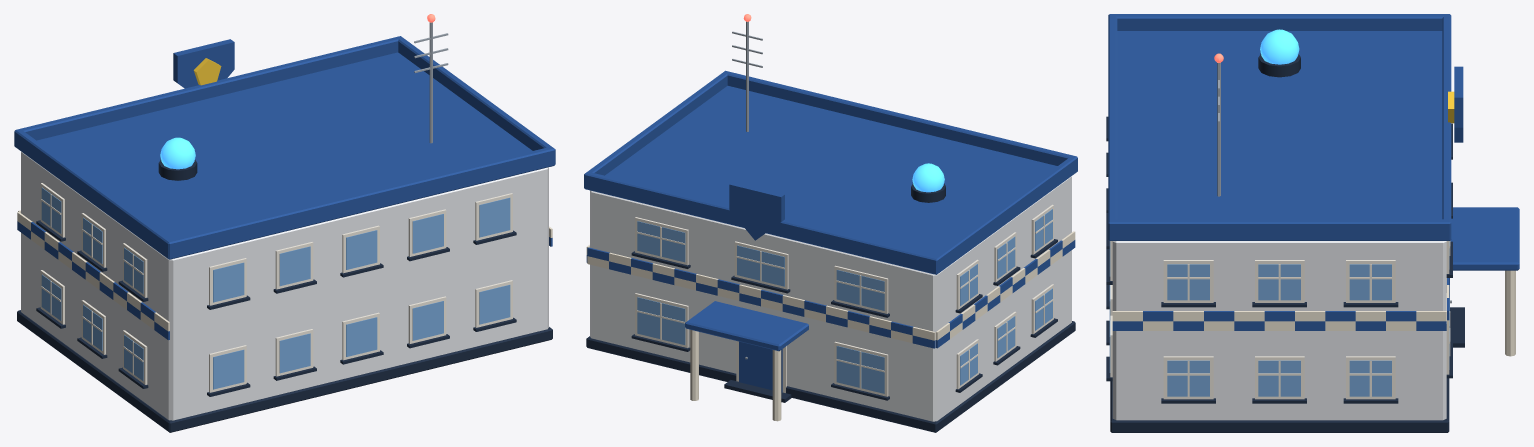
Rendered from bld_police.glb.
3 renders of one model, left to right at view 1: azimuth 30°, elevation 25°; view 2: azimuth 150°, elevation 25°; view 3: azimuth 270°, elevation 25°, orthographic. The views are drawn at different scales.
Parts seen in each view (by area): view 1: bld_police; view 2: bld_police; view 3: bld_police.
Boxes of the visible parts, left/top/right/bottom form: bld_police: left=14, top=14, right=555, bottom=432; bld_police: left=584, top=14, right=1077, bottom=432; bld_police: left=1106, top=14, right=1519, bottom=432.
Size of the model in its own units: 16.42 by 12.43 by 13.61.
